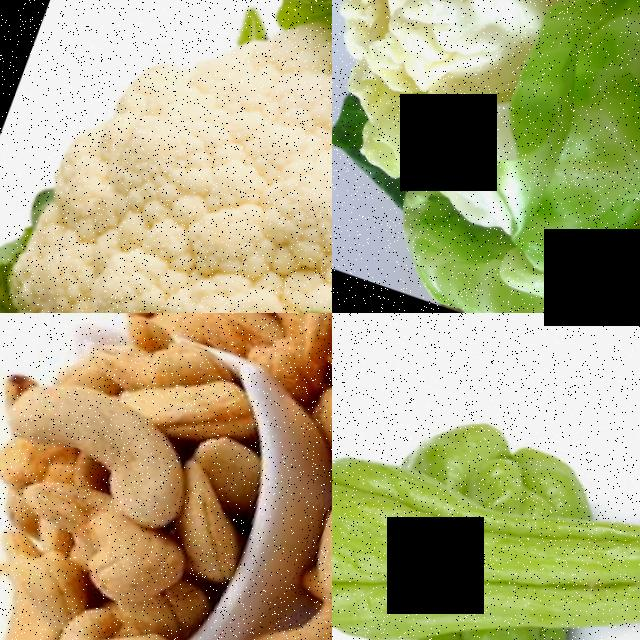cabbage: (332, 0, 640, 313)
cashew: (0, 362, 213, 514), (0, 475, 203, 594), (240, 557, 332, 640), (306, 474, 332, 617), (67, 604, 167, 640)
cauliflower: (0, 0, 332, 313)
chayote: (332, 418, 416, 639)
